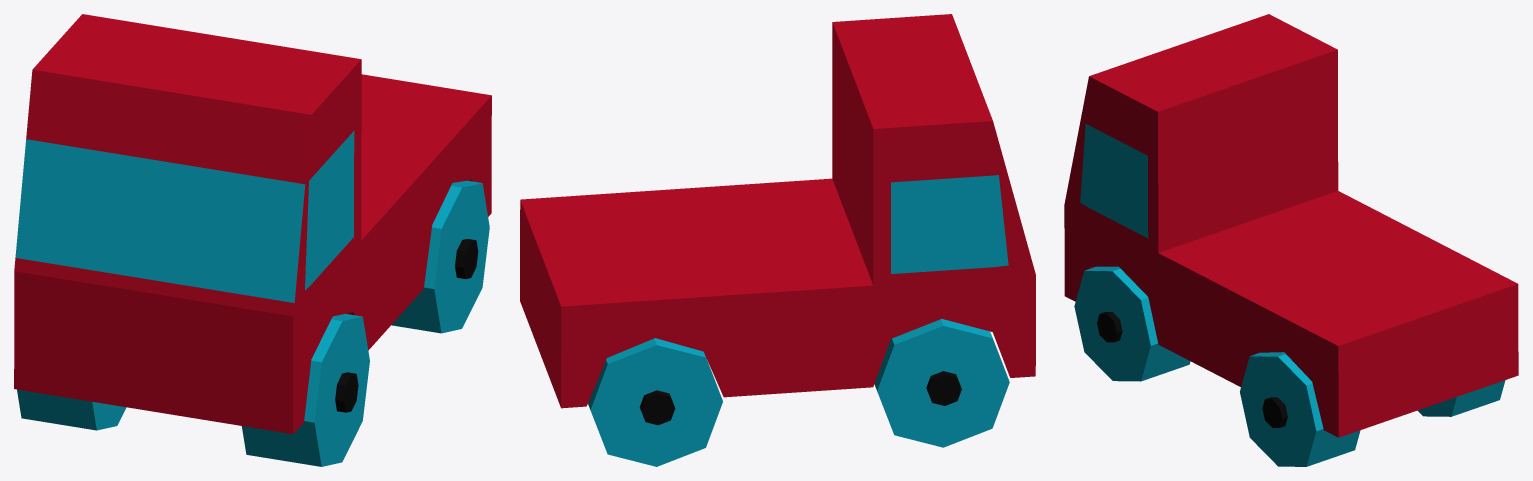
Rendered from Playground_chil_cars_231109.glb.
3 renders of one model, left to right at view 1: azimuth 30°, elevation 25°; view 2: azimuth 150°, elevation 25°; view 3: azimuth 270°, elevation 25°, orthographic. The views are drawn at different scales.
Parts seen in each view (by area): view 1: Playground_chil_cars; view 2: Playground_chil_cars; view 3: Playground_chil_cars.
Part boxes in pixels (x1=…): Playground_chil_cars: x1=14, y1=14, x2=491, y2=466; Playground_chil_cars: x1=520, y1=14, x2=1035, y2=466; Playground_chil_cars: x1=1064, y1=14, x2=1518, y2=466.
Bounding box in the file's own units: 0.9291 × 0.6111 × 0.8738.
Materials: 1 (1 with a texture image).
